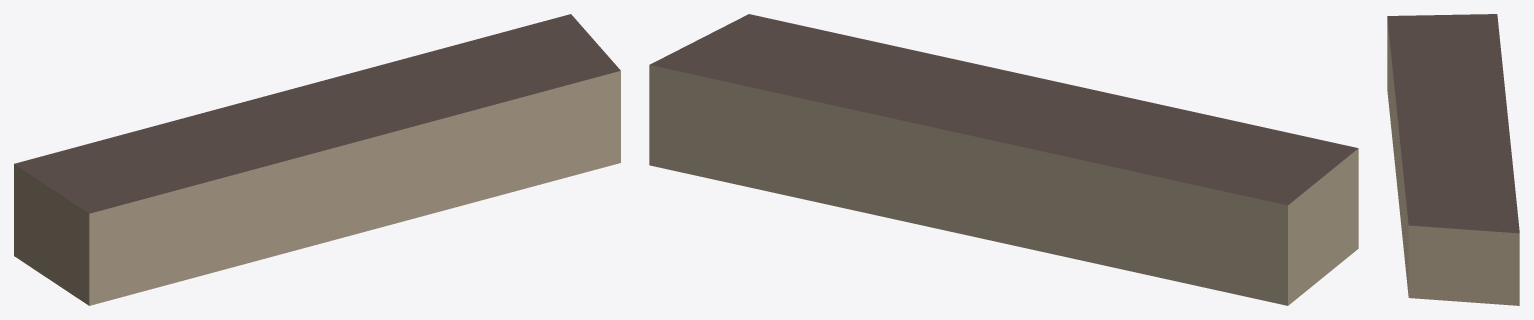
3 renders of one model, left to right at view 1: azimuth 30°, elevation 25°; view 2: azimuth 150°, elevation 25°; view 3: azimuth 270°, elevation 25°, orthographic. The views are drawn at different scales.
Visible parts, largest first — view 1: HP-w859447971; view 2: HP-w859447971; view 3: HP-w859447971.
Boxes of the visible parts, <box> form: HP-w859447971: <box>14,14,620,305</box>; HP-w859447971: <box>649,14,1358,305</box>; HP-w859447971: <box>1387,14,1519,305</box>.
Bounding box in the file's own units: 58.37 × 9 × 14.91.
